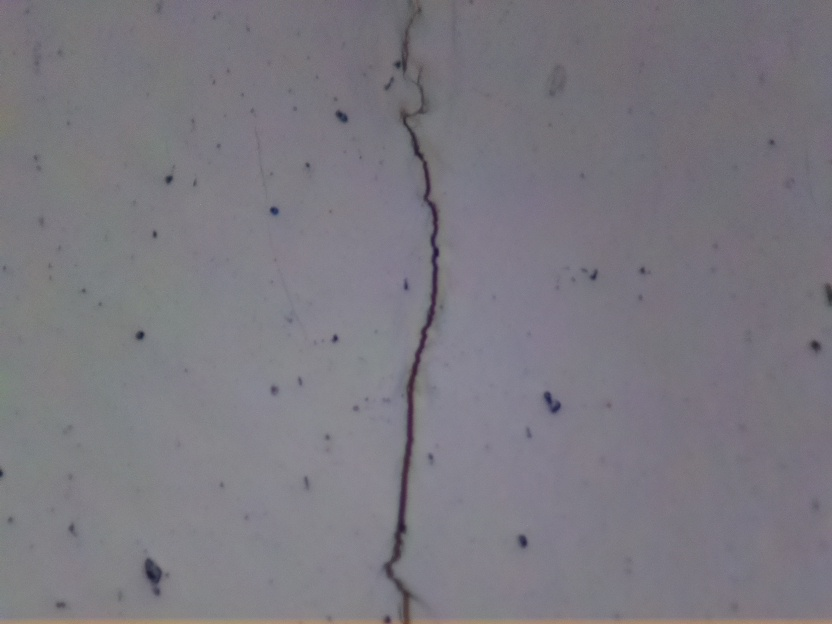crack: (376, 0, 445, 624)
